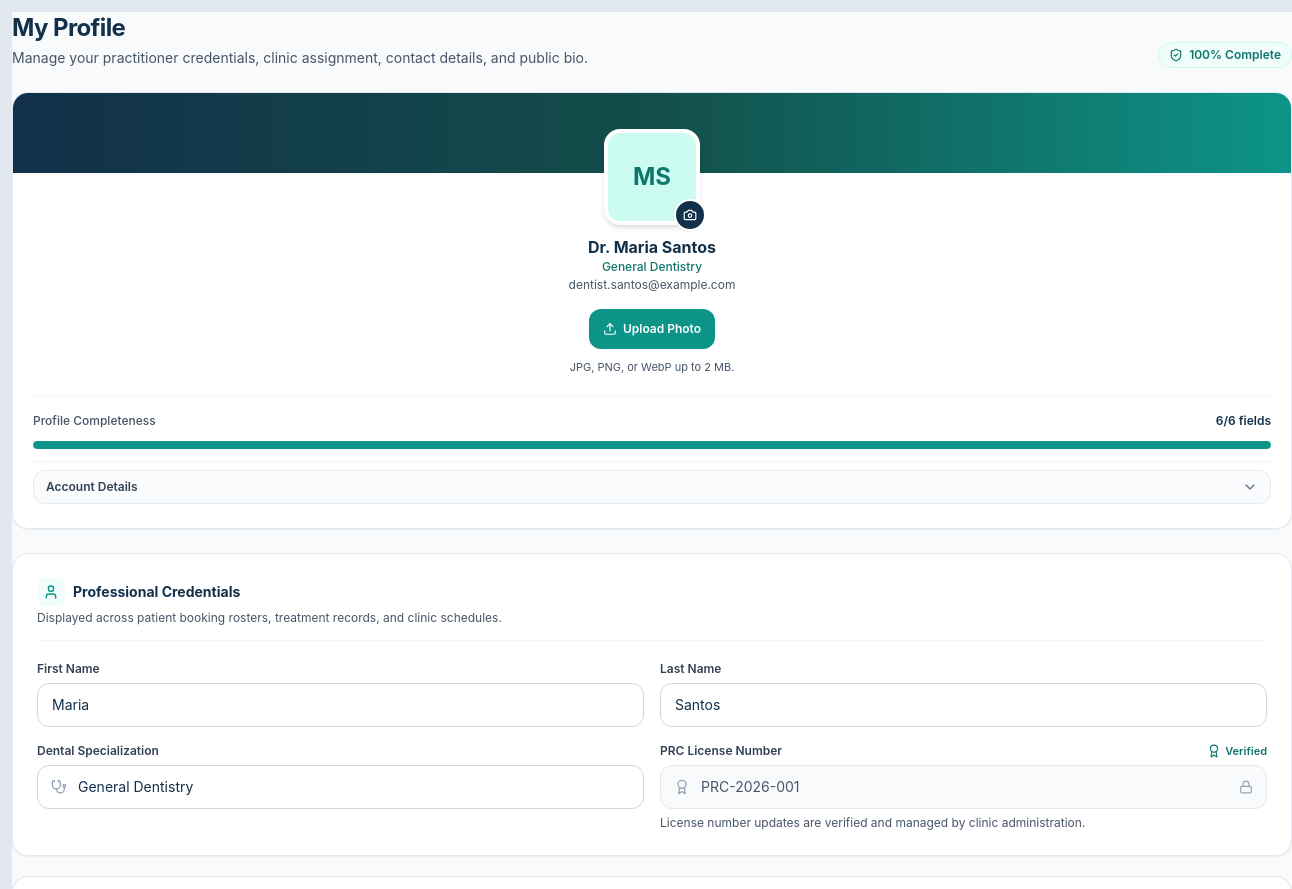
Scenario: DentistProfilePage Component › keeps Account Details minimized by default and toggles open/closed as a dropdown
Expected: the field showing "Maria" is shown, [37, 682, 644, 726]
Expected: the text "Practice Status" is not shown
Click the button "Account Details" at [92, 486], box [33, 470, 1271, 504]
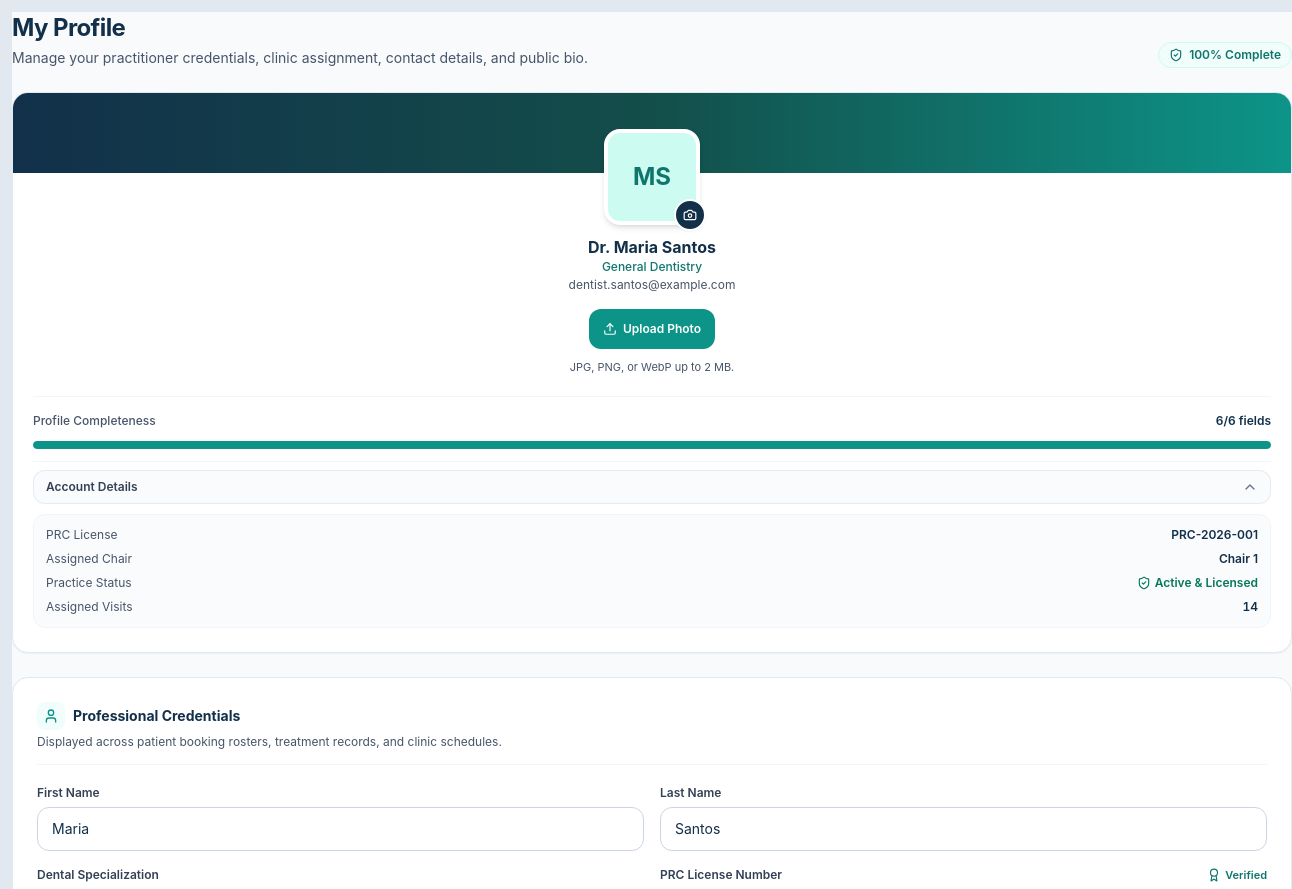
Now the button "Account Details" is expanded
Now the text "Practice Status" is shown, box [46, 574, 132, 590]
Now the text "Active & Licensed" is shown, box [1137, 574, 1258, 590]
Click the button "Account Details" at [92, 486], box [33, 470, 1271, 504]
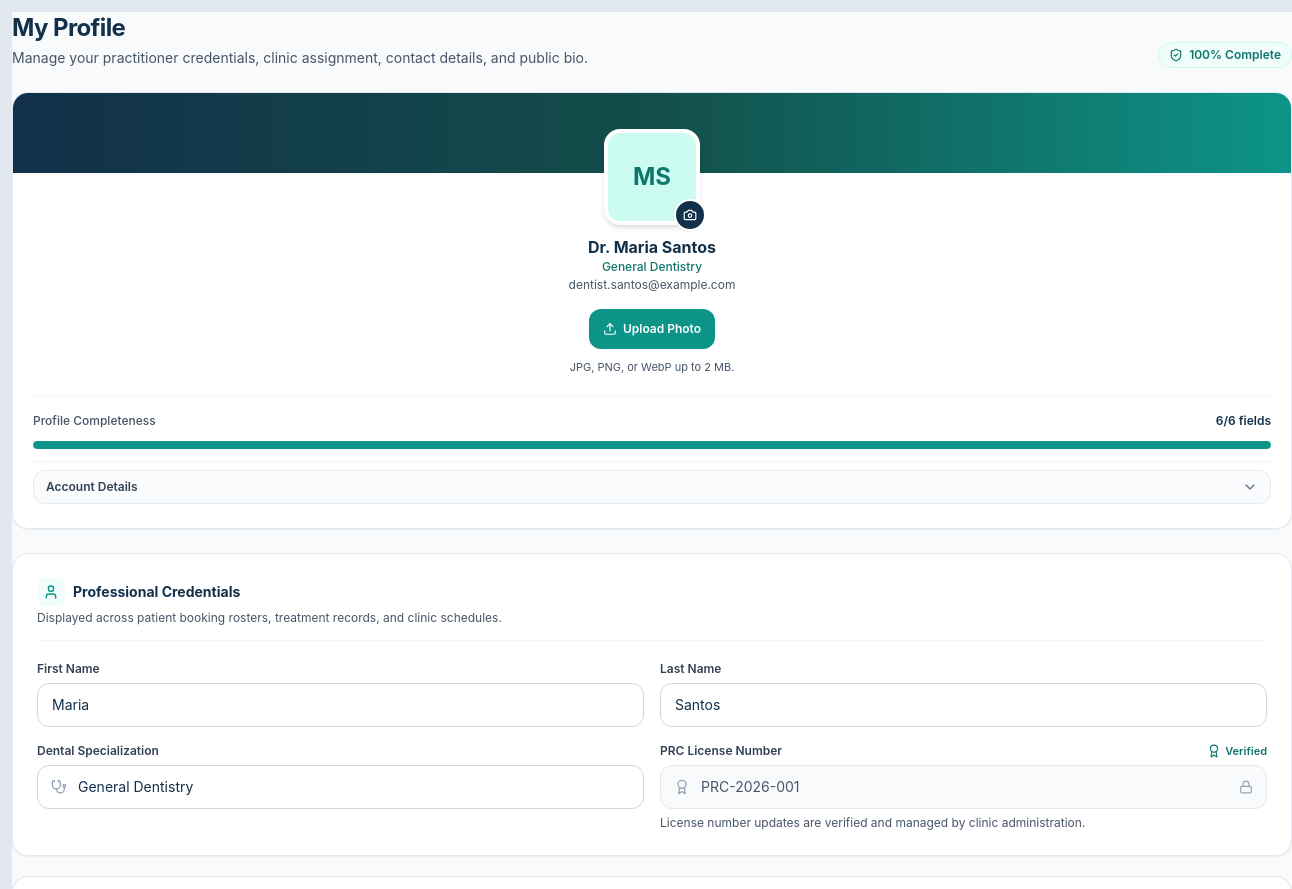
Now the button "Account Details" is collapsed, box [33, 470, 1271, 504]
Now the text "Practice Status" is gone
